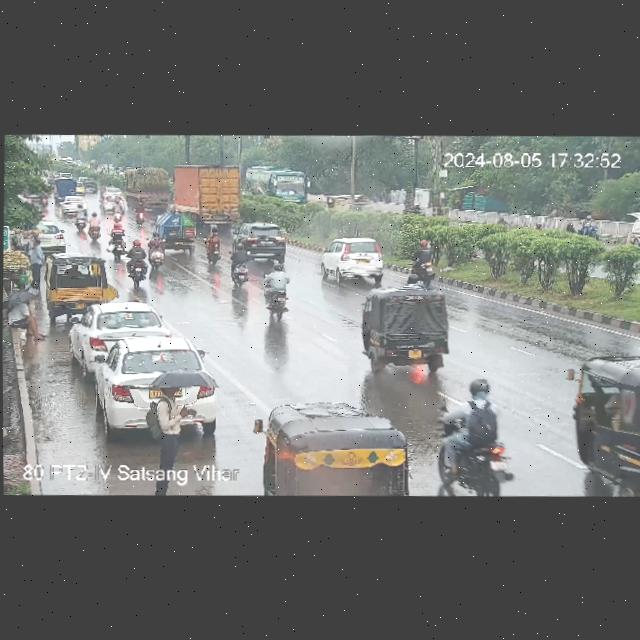bus: (250, 164, 312, 206)
car: (250, 403, 410, 497), (90, 334, 220, 439), (569, 353, 639, 497), (359, 288, 462, 369), (73, 301, 166, 358), (47, 254, 114, 309), (323, 237, 393, 283), (235, 223, 295, 261), (155, 210, 200, 254), (21, 220, 67, 251), (326, 195, 375, 215), (626, 211, 640, 246), (62, 196, 89, 211), (101, 197, 128, 209)
motorcycle: (440, 378, 521, 496), (402, 238, 444, 287), (263, 264, 296, 321), (124, 239, 152, 287), (228, 247, 250, 285), (145, 232, 168, 268), (107, 220, 127, 255), (72, 207, 95, 233), (204, 227, 221, 262), (87, 208, 104, 241), (132, 199, 147, 225)
person: (147, 378, 187, 480), (8, 289, 43, 340), (27, 238, 43, 285)
truck: (173, 166, 240, 224), (129, 169, 170, 207)
